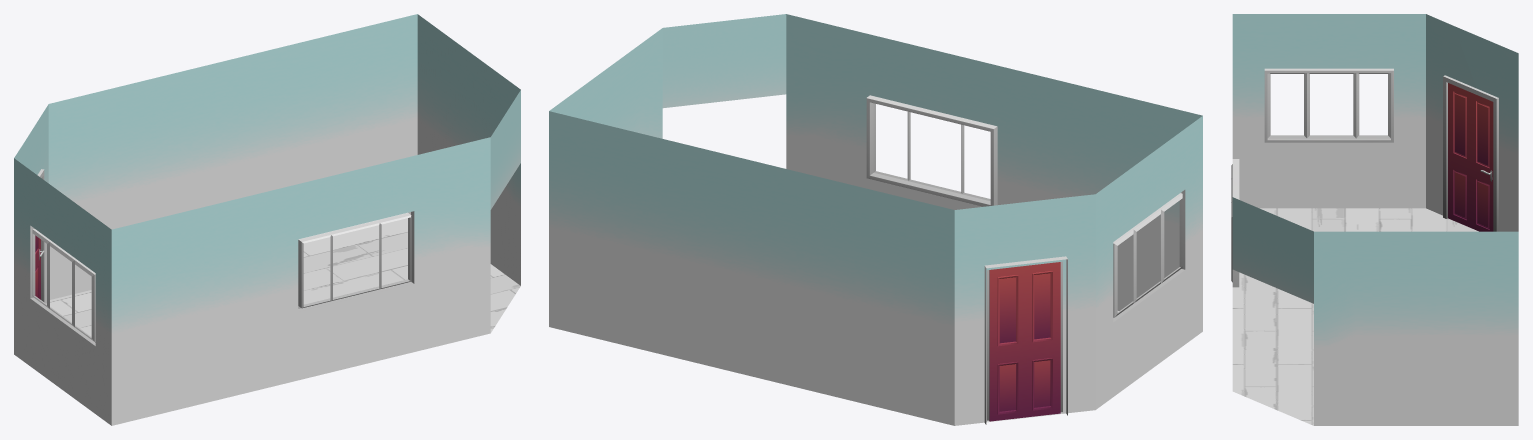
File: Boundaries.fbx
The picture shows the model from 3 angles, left to right: view 1: azimuth 30°, elevation 25°; view 2: azimuth 150°, elevation 25°; view 3: azimuth 270°, elevation 25°; orthographic projection. The views are drawn at different scales.
Visible parts, largest first — view 1: Wall, Door; view 2: Wall, Door; view 3: Wall, Door.
Part boxes in pixels (<box>): Wall: <box>14,14,520,425</box>; Door: <box>35,169,44,301</box>; Wall: <box>549,14,1202,425</box>; Door: <box>984,256,1067,424</box>; Wall: <box>1231,14,1518,425</box>; Door: <box>1443,75,1498,231</box>.
Size of the model in its own units: 72.11 by 30 by 40.21.
Materials: 3 (3 with a texture image).
